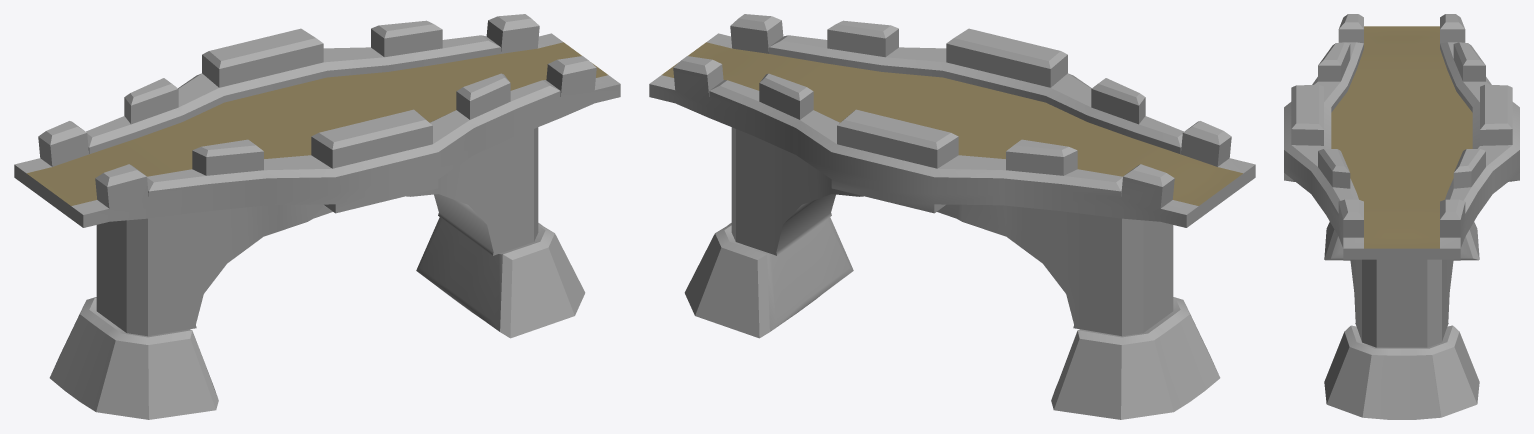
File: Bridge_Fix.fbx
3 views of the same model, side by side, from view 1: azimuth 30°, elevation 25°; view 2: azimuth 150°, elevation 25°; view 3: azimuth 270°, elevation 25° (orthographic). The views are drawn at different scales.
Visible parts, largest first — view 1: pCube10; view 2: pCube10; view 3: pCube10.
Boxes of the visible parts, x1,y1,x2,y2 form: pCube10: [14, 14, 620, 419]; pCube10: [649, 14, 1255, 419]; pCube10: [1284, 14, 1519, 419].
Bounding box in the file's own units: 1273 × 579 × 570.
